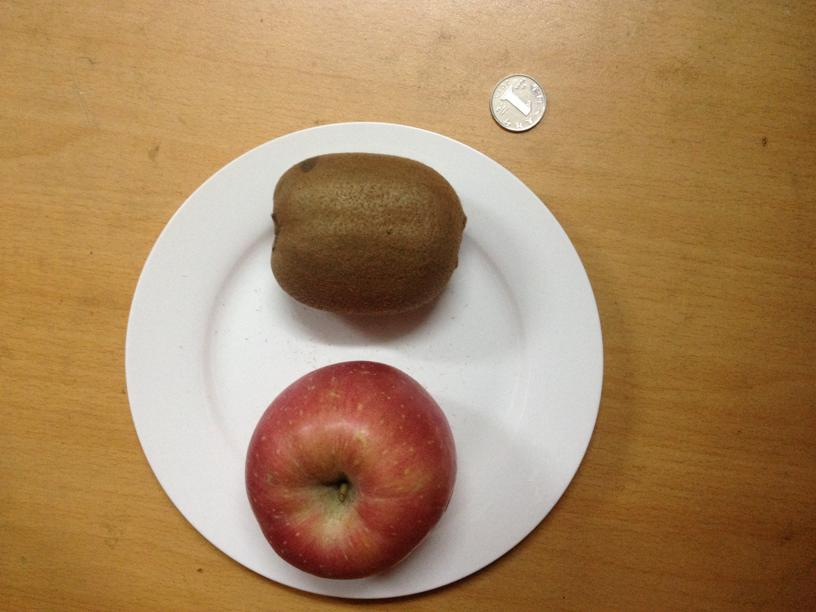apple: (242, 360, 456, 577)
coin: (487, 74, 546, 133)
qiwi: (267, 151, 463, 316)
